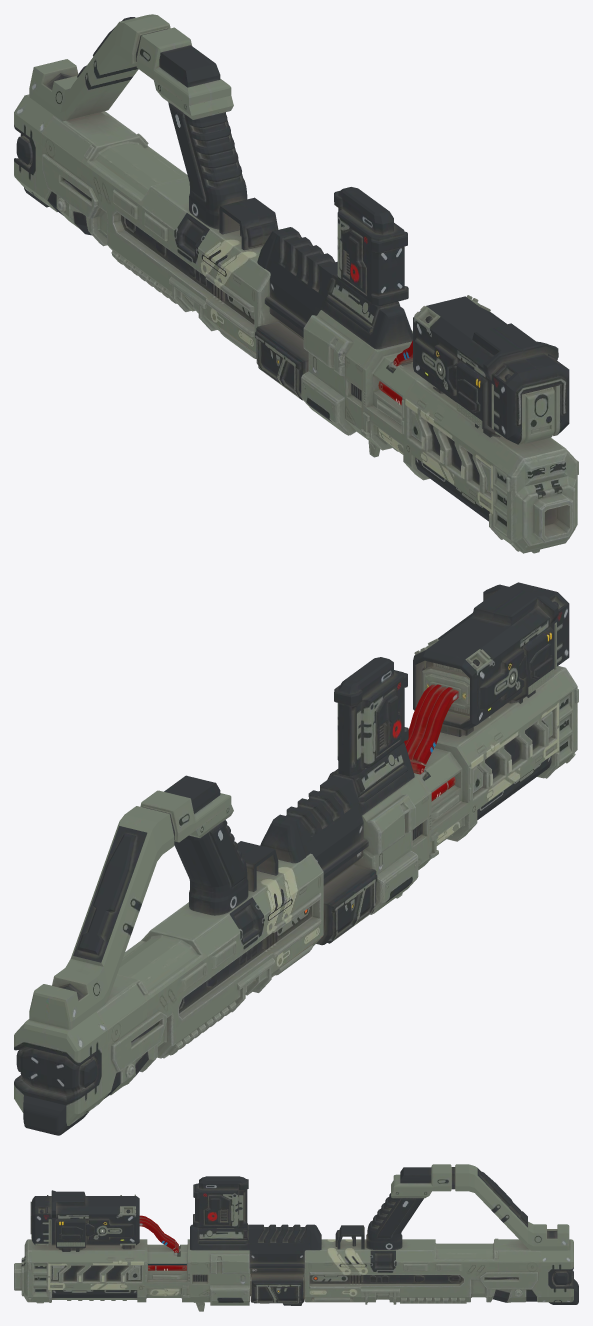
The picture shows the model from 3 angles, top to bottom: view 1: azimuth 30°, elevation 25°; view 2: azimuth 150°, elevation 25°; view 3: azimuth 270°, elevation 25°; orthographic projection. The views are drawn at different scales.
Parts seen in each view (by area): view 1: reaperrifle_base, batary1, engine, hold, pistol, ammo, end; view 2: reaperrifle_base, hold, batary1, engine, end, ammo, pistol, cabel1; view 3: reaperrifle_base, engine, batary1, hold, ammo, pistol, end, cabel1.
Part boxes in pixels (left/top/right/bottom): reaperrifle_base: left=42, top=111, right=578, bottom=553; batary1: left=413, top=295, right=569, bottom=444; engine: left=255, top=227, right=412, bottom=400; hold: left=29, top=14, right=231, bottom=121; pistol: left=154, top=80, right=278, bottom=250; ammo: left=334, top=187, right=408, bottom=305; end: left=14, top=94, right=53, bottom=208; reaperrifle_base: left=96, top=666, right=578, bottom=1105; hold: left=29, top=775, right=231, bottom=1029; batary1: left=413, top=582, right=569, bottom=736; engine: left=260, top=742, right=414, bottom=945; end: left=14, top=1011, right=107, bottom=1135; ammo: left=334, top=657, right=408, bottom=776; pistol: left=174, top=804, right=278, bottom=915; cabel1: left=404, top=684, right=458, bottom=774; reaperrifle_base: left=14, top=1238, right=541, bottom=1311; engine: left=190, top=1223, right=321, bottom=1305; batary1: left=30, top=1190, right=139, bottom=1251; hold: left=393, top=1164, right=569, bottom=1250; ammo: left=193, top=1176, right=248, bottom=1228; pistol: left=335, top=1180, right=431, bottom=1249; end: left=541, top=1239, right=578, bottom=1304; cabel1: left=139, top=1215, right=178, bottom=1252.
Bounding box in the file's own units: 0.088 × 0.2582 × 0.95.
2 materials, 2 textured.
